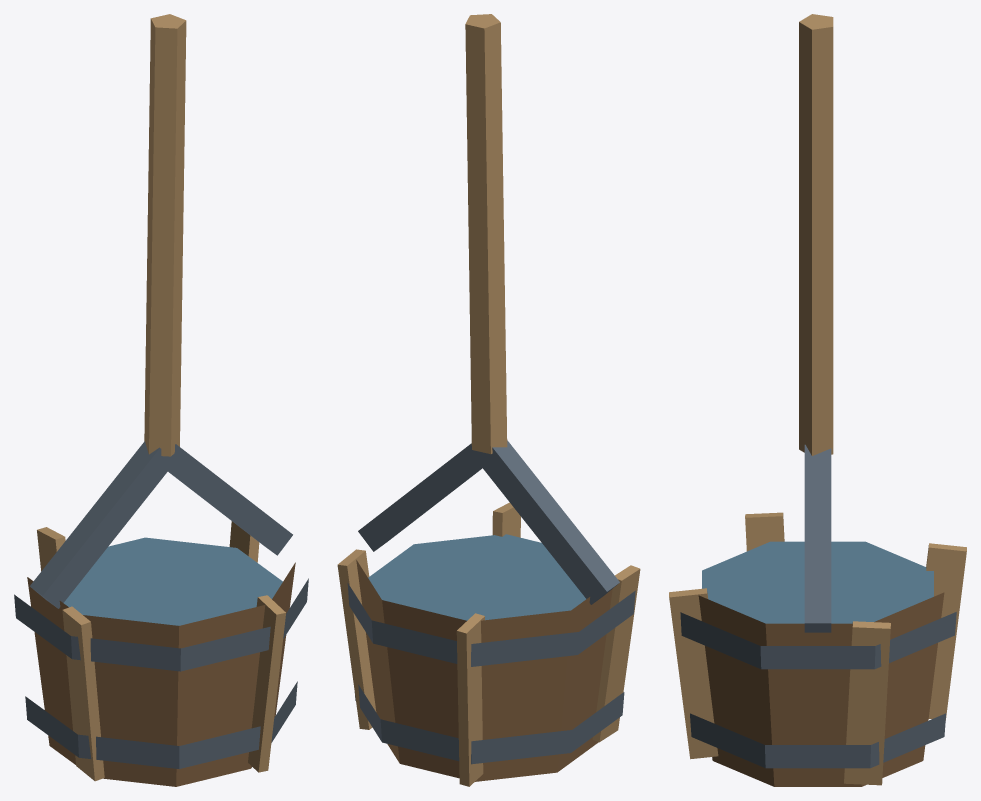
Rendered from work-bucket.glb.
The picture shows the model from 3 angles, left to right: view 1: azimuth 30°, elevation 25°; view 2: azimuth 150°, elevation 25°; view 3: azimuth 270°, elevation 25°; orthographic projection.
Visible parts, largest first — view 1: Bucket, Rope; view 2: Bucket, Rope; view 3: Bucket, Rope.
Boxes of the visible parts, <box> form: Bucket: <box>14,441,308,786</box>; Rope: <box>144,14,186,456</box>; Bucket: <box>337,440,640,786</box>; Rope: <box>465,14,507,454</box>; Bucket: <box>669,444,966,786</box>; Rope: <box>799,14,833,455</box>.
Size of the model in its own units: 0.7688 by 2.1 by 0.7832.
1 material, 1 textured.
